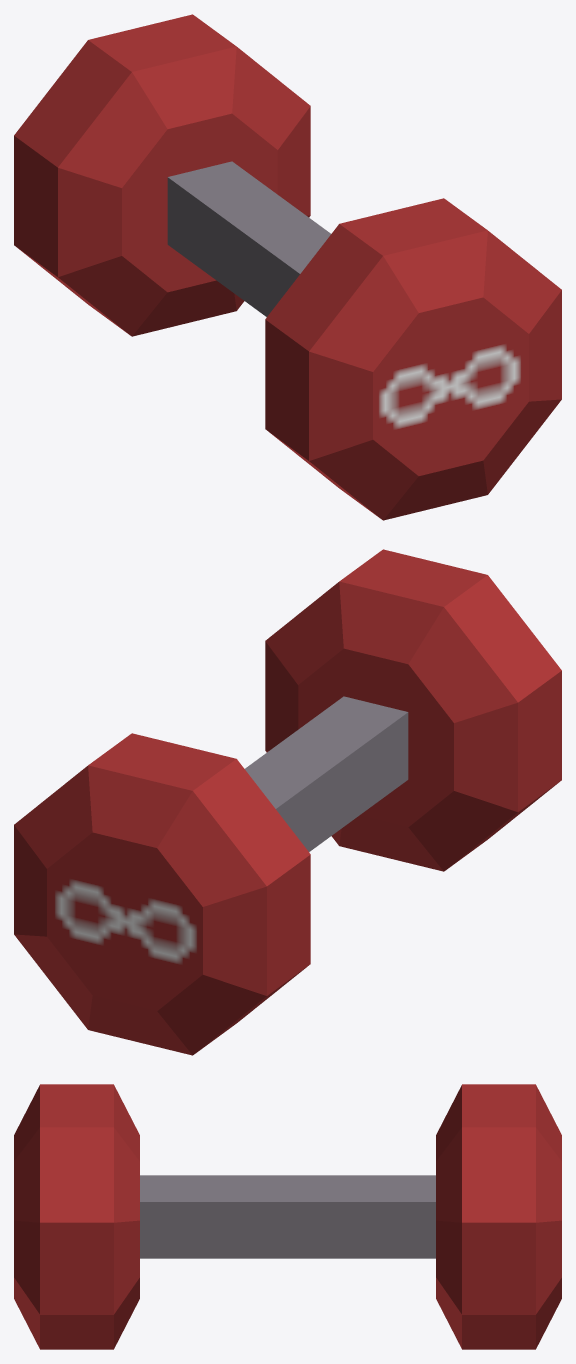
The model's file is GymDumbbell.fbx.
3 renders of one model, top to bottom at view 1: azimuth 30°, elevation 25°; view 2: azimuth 150°, elevation 25°; view 3: azimuth 270°, elevation 25°, orthographic. The views are drawn at different scales.
Visible parts, largest first — view 1: Cylinder.006; view 2: Cylinder.006; view 3: Cylinder.006.
Boxes of the visible parts, left/top/right/bottom form: Cylinder.006: left=14, top=14, right=561, bottom=520; Cylinder.006: left=14, top=549, right=561, bottom=1055; Cylinder.006: left=14, top=1084, right=561, bottom=1349.
Bounding box in the file's own units: 111 × 111 × 249.
